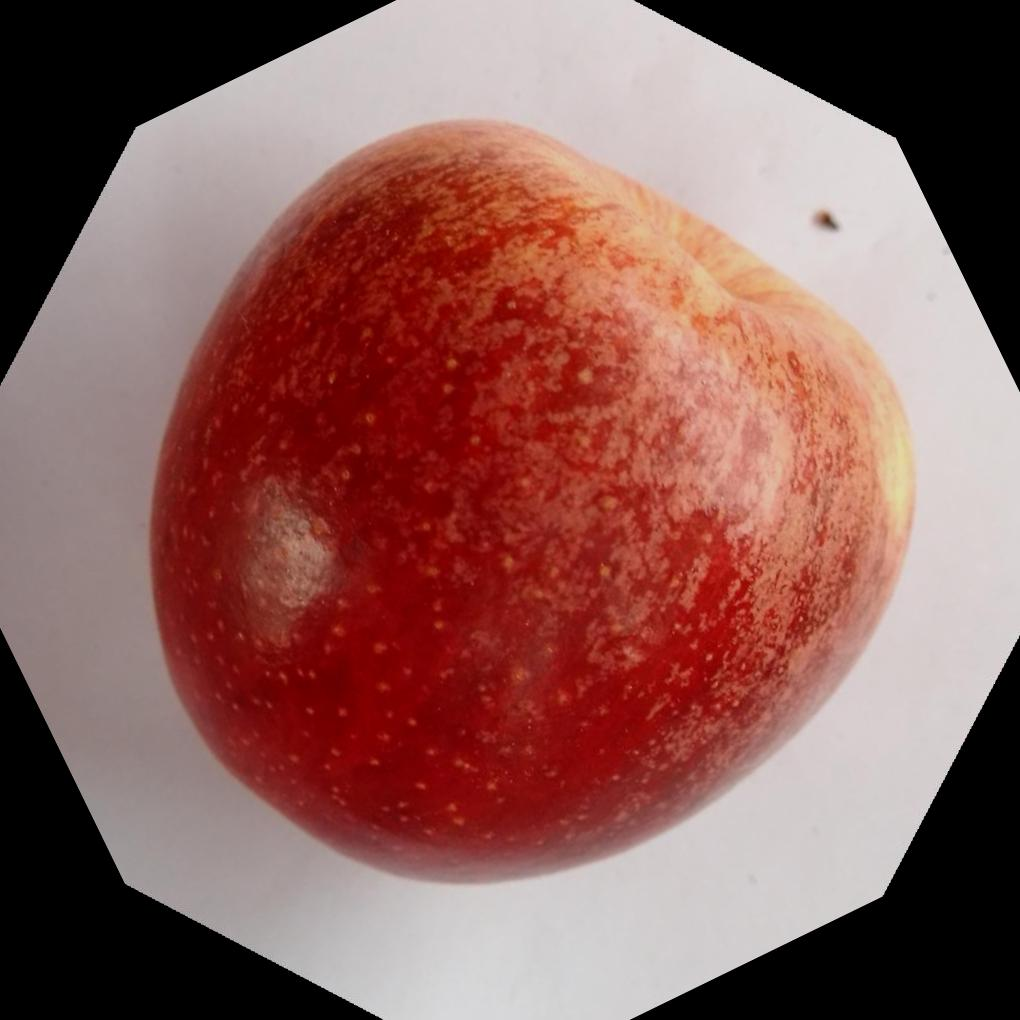FreshGuava: (148, 112, 925, 889)
